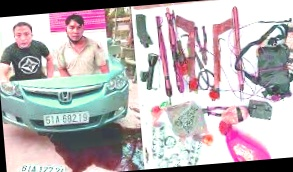Bien-so: (41, 113, 88, 129), (17, 163, 64, 172)
